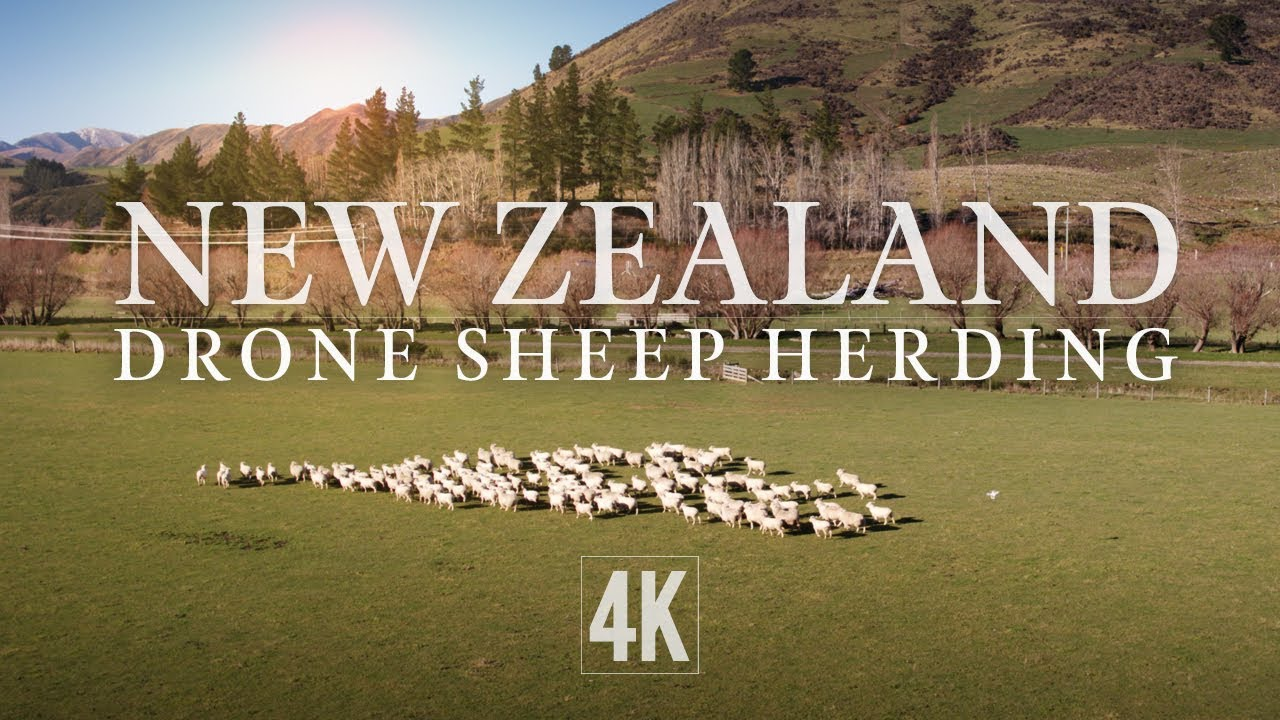sheep: (864, 500, 897, 526), (807, 513, 835, 541), (759, 513, 786, 538), (837, 467, 862, 489), (852, 477, 878, 498), (743, 455, 767, 476), (680, 502, 702, 524), (709, 444, 734, 463), (814, 477, 836, 498), (572, 499, 594, 519), (573, 442, 593, 463), (791, 479, 811, 500), (625, 448, 643, 470), (630, 472, 649, 492), (435, 490, 455, 509), (522, 484, 540, 505), (194, 464, 209, 487), (770, 483, 791, 499), (526, 469, 544, 487), (289, 460, 303, 483), (255, 463, 266, 485), (267, 459, 277, 482), (239, 461, 251, 480)
